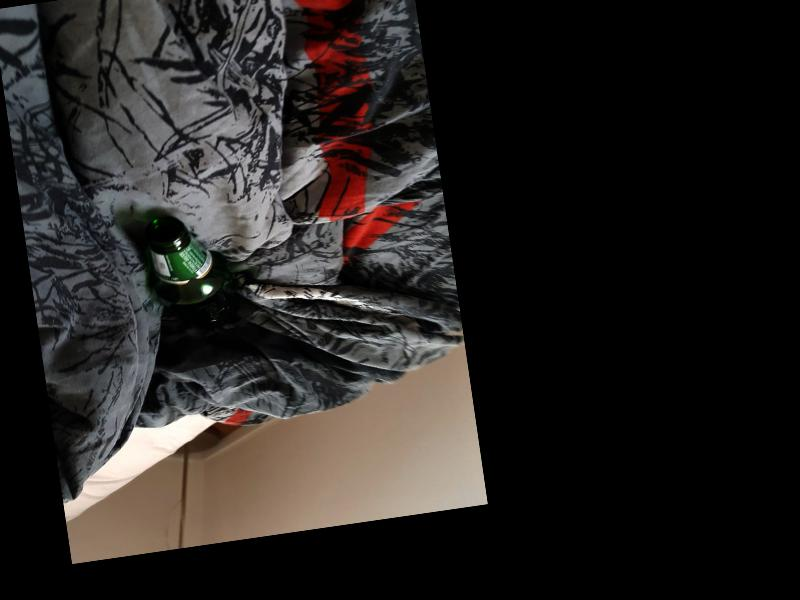Beer: (139, 207, 241, 337)
